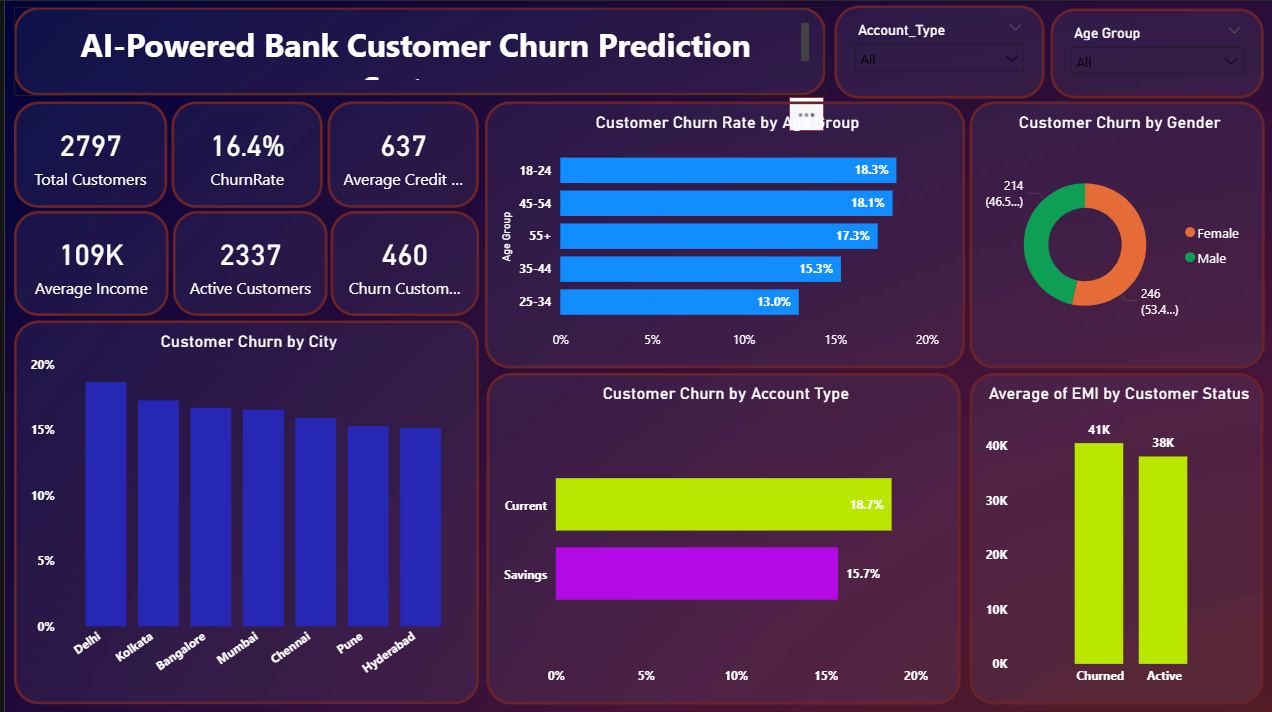

What the dashboard file says about the page in this screenshot:
{"tool":"powerbi","page":{"name":"Page 1","canvas":[1280,720],"ordinal":0},"visuals":[{"type":"card","fields":{"Values":["cleaned_banking_data.Total Customers"]},"box":[9.1,101.5,154.4,107.5],"z":0},{"type":"card","fields":{"Values":["cleaned_banking_data.Churn Customers"]},"box":[328.6,212,149.9,106],"z":1000},{"type":"card","fields":{"Values":["cleaned_banking_data.Active Customers"]},"box":[169.6,212,156,106],"z":2000},{"type":"card","fields":{"Values":["cleaned_banking_data.ChurnRate"]},"box":[168.1,101.5,152.9,107.5],"z":3000},{"type":"card","fields":{"Values":["cleaned_banking_data.Average Income"]},"box":[9.1,212,156,106],"z":4000},{"type":"card","fields":{"Values":["cleaned_banking_data.Average Credit Score"]},"box":[325.6,101.5,152.9,107.5],"z":5000},{"type":"textbox","box":[9.1,6.1,819.2,89.3],"z":6000},{"type":"donutChart","title":"Customer Churn by Gender","fields":{"Category":["cleaned_banking_data.Gender"],"Y":["cleaned_banking_data.Churn Customers"]},"box":[973.6,101.5,298.3,269.5],"z":7000},{"type":"clusteredBarChart","title":"Customer Churn by Account Type","fields":{"Category":["cleaned_banking_data.Account_Type"],"Y":["cleaned_banking_data.ChurnRate"]},"box":[486.1,375.5,478.5,334.6],"z":8000},{"type":"columnChart","title":"Customer Churn by City","fields":{"Category":["cleaned_banking_data.City"],"Y":["cleaned_banking_data.ChurnRate"]},"box":[9.1,322.5,469.4,387.6],"z":9000},{"type":"clusteredBarChart","title":"Customer Churn Rate by Age Group","fields":{"Category":["cleaned_banking_data.Age Group"],"Y":["cleaned_banking_data.ChurnRate"]},"box":[484.5,101.5,484.5,269.5],"z":10000},{"type":"slicer","fields":{"Values":["cleaned_banking_data.Age Group"]},"box":[1055.4,7.6,215,90.9],"z":11000},{"type":"slicer","fields":{"Values":["cleaned_banking_data.Account_Type"]},"box":[837.4,4.5,212,93.9],"z":12000},{"type":"clusteredColumnChart","fields":{"Category":["cleaned_banking_data.Customer Status"],"Y":["Avg(cleaned_banking_data.EMI)"]},"box":[973.6,375.5,296.8,334.6],"z":13000}]}

Visuals, with their boxes in screenshot pixels (x1, y1, x2, y2), scaled from the page's 1280x720 canvas onto the 1272x712 screenshot:
card - cleaned_banking_data.Total Customers: [left=9, top=100, right=162, bottom=207]
card - cleaned_banking_data.Churn Customers: [left=327, top=210, right=476, bottom=314]
card - cleaned_banking_data.Active Customers: [left=169, top=210, right=324, bottom=314]
card - cleaned_banking_data.ChurnRate: [left=167, top=100, right=319, bottom=207]
card - cleaned_banking_data.Average Income: [left=9, top=210, right=164, bottom=314]
card - cleaned_banking_data.Average Credit Score: [left=324, top=100, right=476, bottom=207]
textbox: [left=9, top=6, right=823, bottom=94]
"Customer Churn by Gender" donutChart: [left=968, top=100, right=1264, bottom=367]
"Customer Churn by Account Type" clusteredBarChart: [left=483, top=371, right=959, bottom=702]
"Customer Churn by City" columnChart: [left=9, top=319, right=476, bottom=702]
"Customer Churn Rate by Age Group" clusteredBarChart: [left=481, top=100, right=963, bottom=367]
slicer - cleaned_banking_data.Age Group: [left=1049, top=8, right=1262, bottom=97]
slicer - cleaned_banking_data.Account_Type: [left=832, top=4, right=1043, bottom=97]
clusteredColumnChart - cleaned_banking_data.Customer Status x Avg(cleaned_banking_data.EMI): [left=968, top=371, right=1262, bottom=702]
